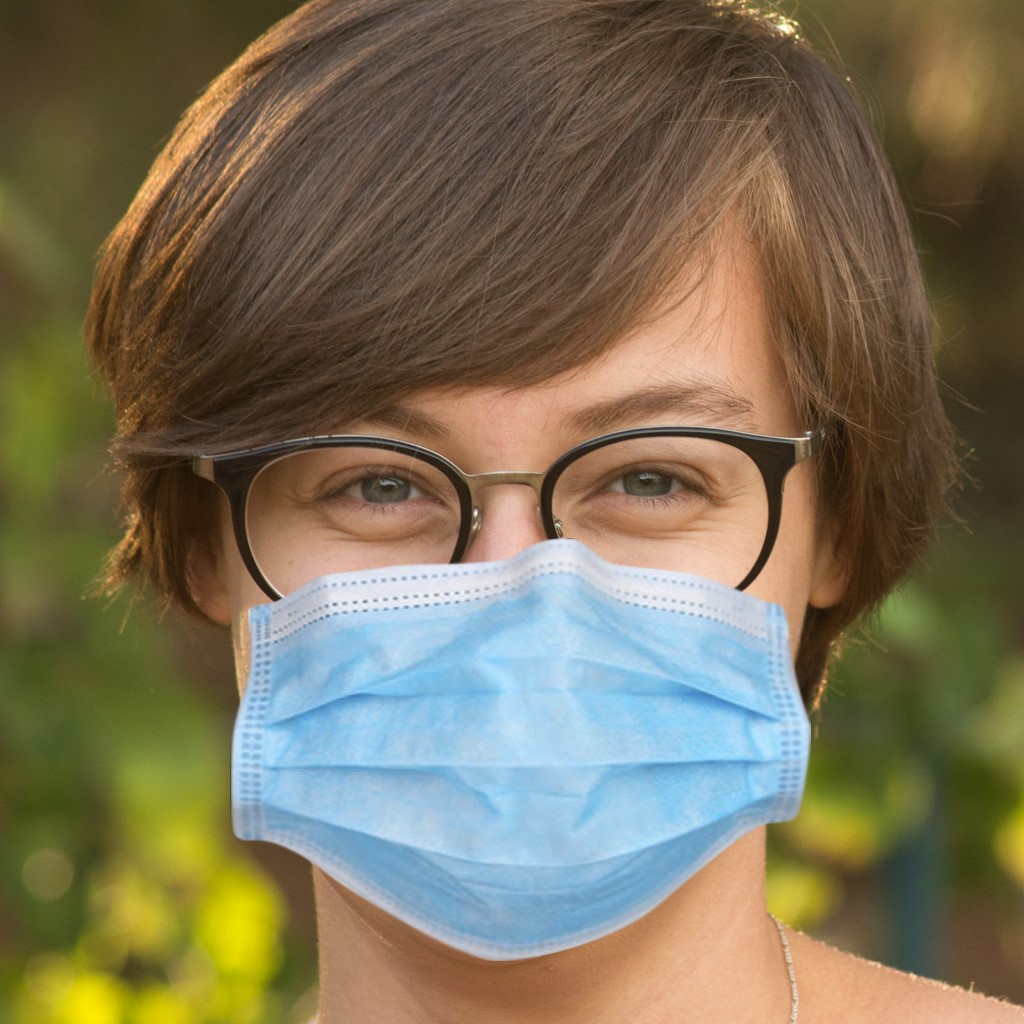con_mascara: (210, 152, 809, 914)
